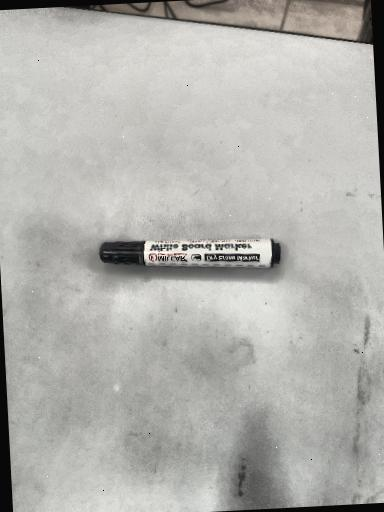marcador negro: (99, 238, 281, 268)
